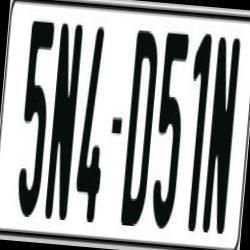1: (178, 26, 214, 236)
4: (72, 19, 115, 216)
5: (148, 26, 188, 234), (15, 14, 55, 211)
D: (120, 26, 160, 227)
N: (43, 24, 85, 231), (200, 38, 240, 242)
